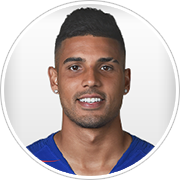smile: (75, 94, 105, 106)
